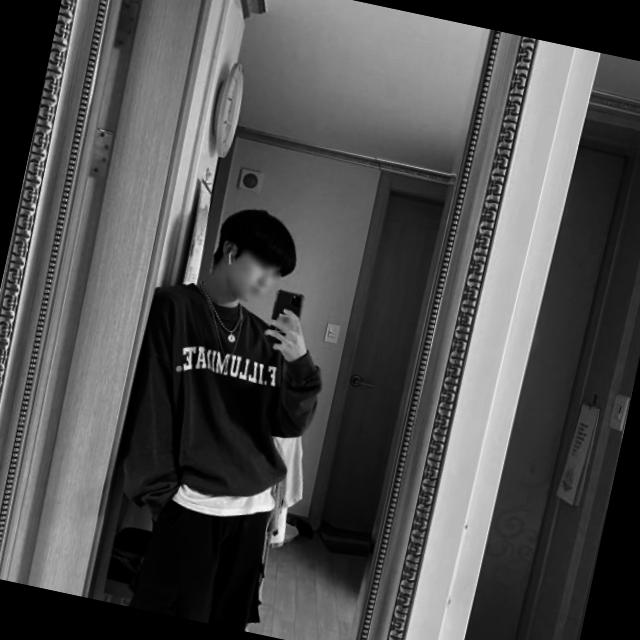mtm: (103, 278, 333, 554)
slacks: (124, 482, 282, 634)
